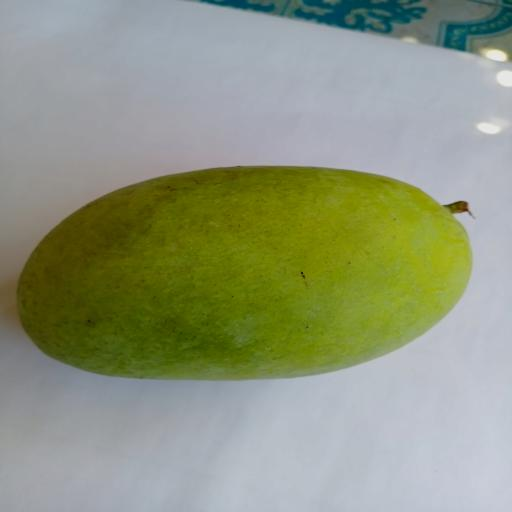mango-unripe: (7, 162, 485, 390)
